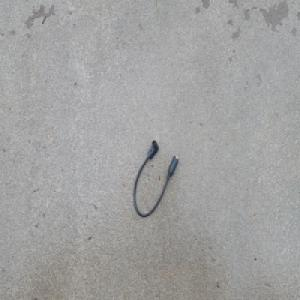Wire: (132, 136, 181, 219)
